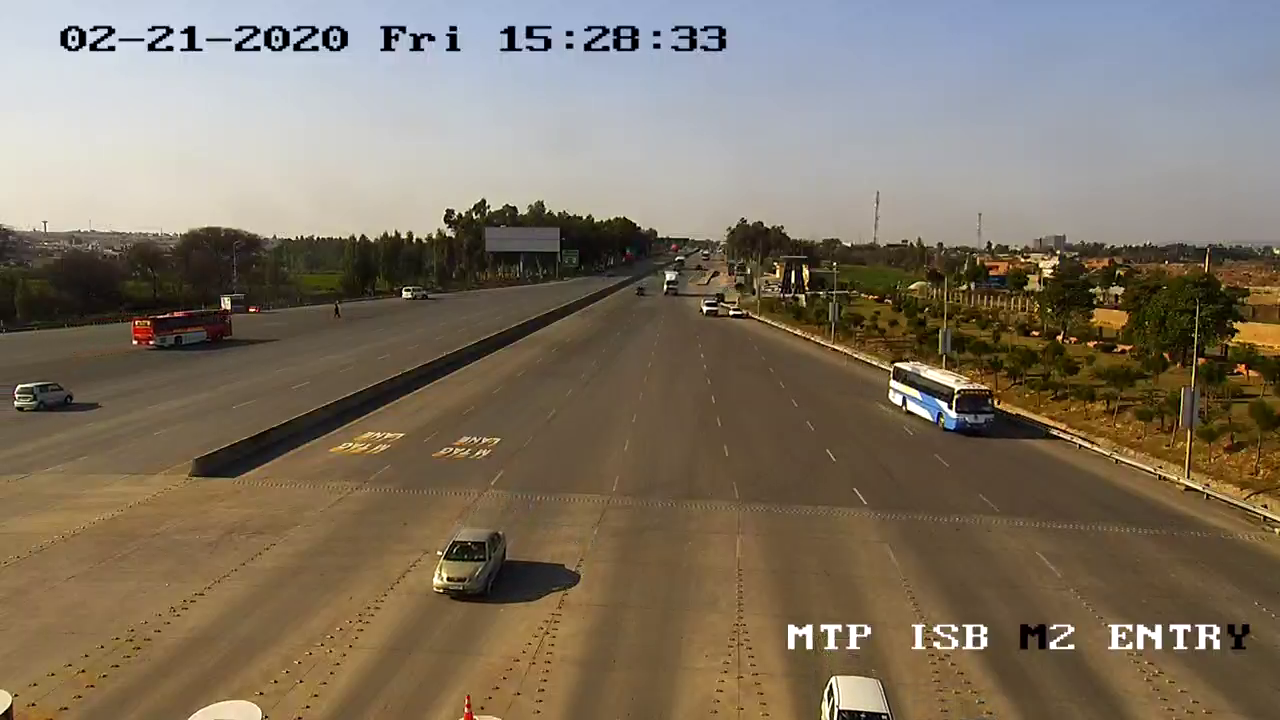f1: (425, 518, 520, 612)
f4: (875, 355, 1009, 444)
